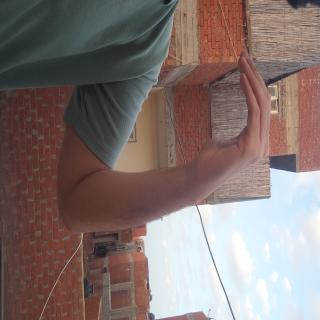HAA: (37, 57, 163, 174)
